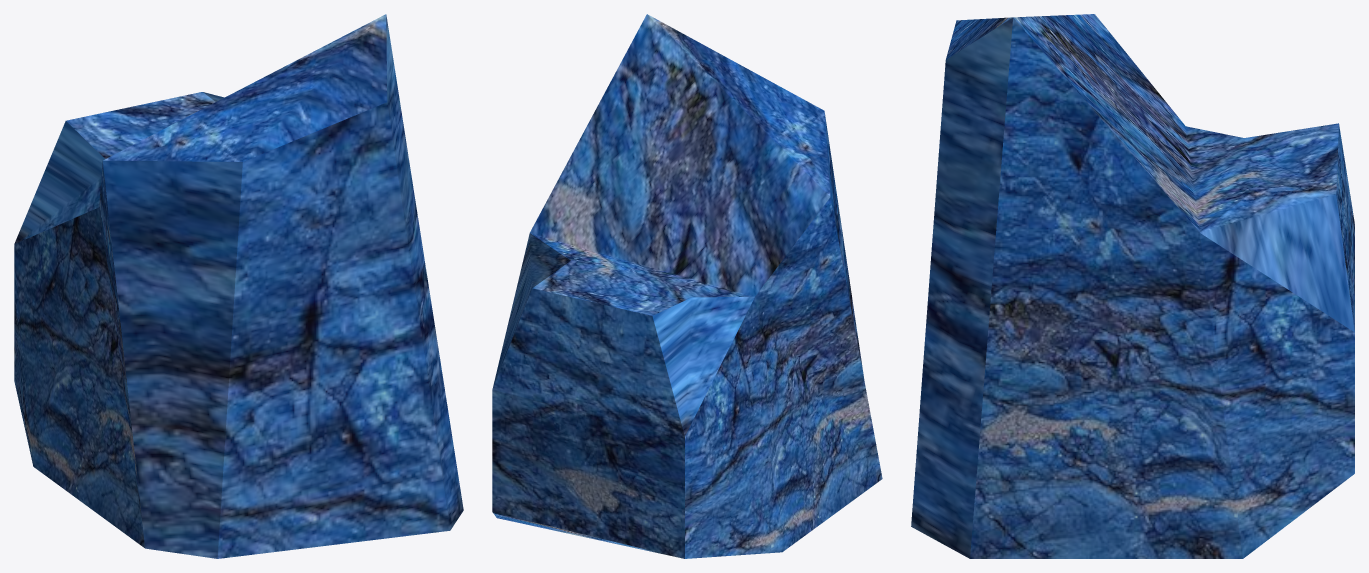
Rendered from texturedrock1.glb.
3 views of the same model, side by side, from view 1: azimuth 30°, elevation 25°; view 2: azimuth 150°, elevation 25°; view 3: azimuth 270°, elevation 25° (orthographic). The views are drawn at different scales.
Parts seen in each view (by area): view 1: Cube; view 2: Cube; view 3: Cube.
Boxes of the visible parts, x1,y1,x2,y2 form: Cube: (14, 14, 463, 558); Cube: (492, 14, 882, 558); Cube: (911, 14, 1354, 558).
Bounding box in the file's own units: 1.38 × 2.12 × 1.66.
1 material, 1 textured.
